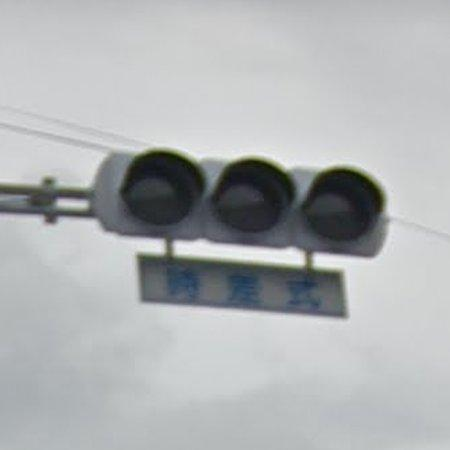traffic lights: (90, 147, 391, 257)
